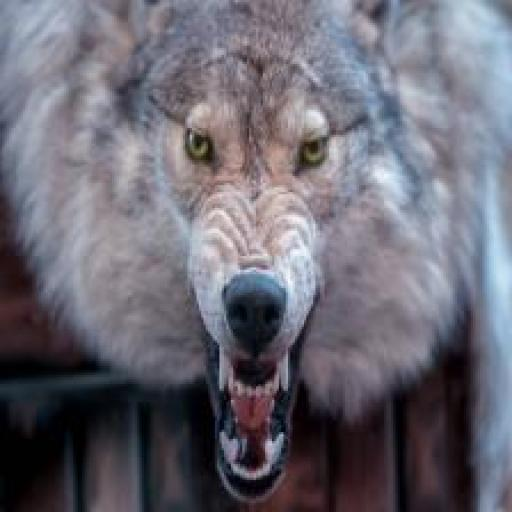wolf: (0, 2, 512, 512)
